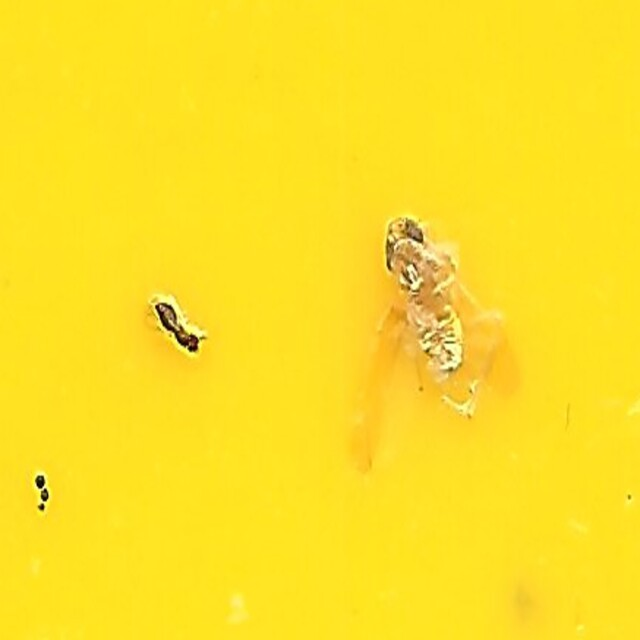Hemiptera: (379, 213, 494, 427)
Hymenoptera: (146, 297, 212, 363)
